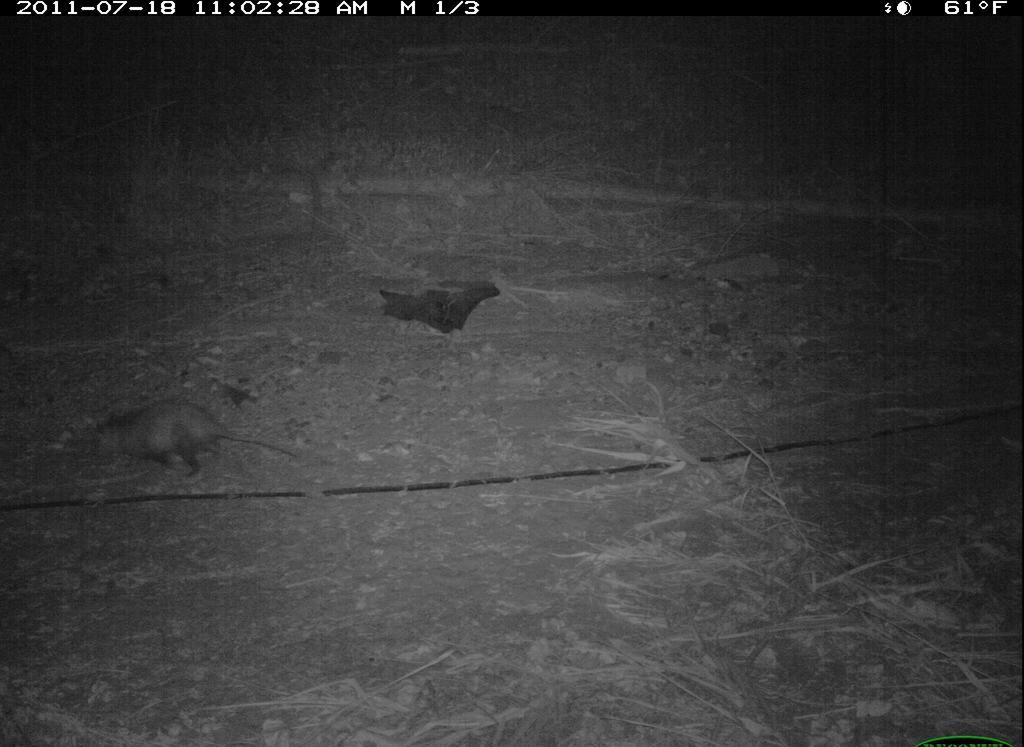opossum: (85, 391, 308, 487)
